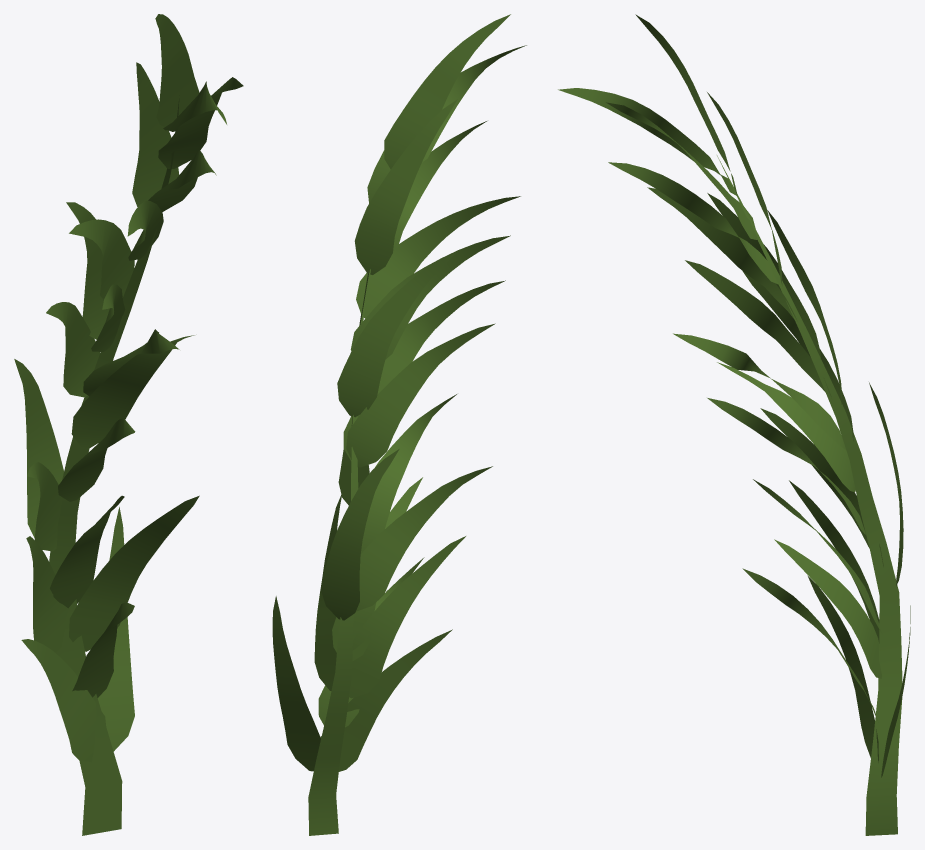
File: plant_swamp_kelp_floor_bent_C.fbx
3 renders of one model, left to right at view 1: azimuth 30°, elevation 25°; view 2: azimuth 150°, elevation 25°; view 3: azimuth 270°, elevation 25°, orthographic. The views are drawn at different scales.
Visible parts, largest first — view 1: plant_swamp_kelp_floor_bent_C; view 2: plant_swamp_kelp_floor_bent_C; view 3: plant_swamp_kelp_floor_bent_C.
Part boxes in pixels (box(x1,y1,x2,y2)): plant_swamp_kelp_floor_bent_C: box(14, 14, 243, 835); plant_swamp_kelp_floor_bent_C: box(272, 14, 526, 835); plant_swamp_kelp_floor_bent_C: box(558, 14, 910, 835).
Size of the model in its own units: 43.02 by 206 by 84.29.
